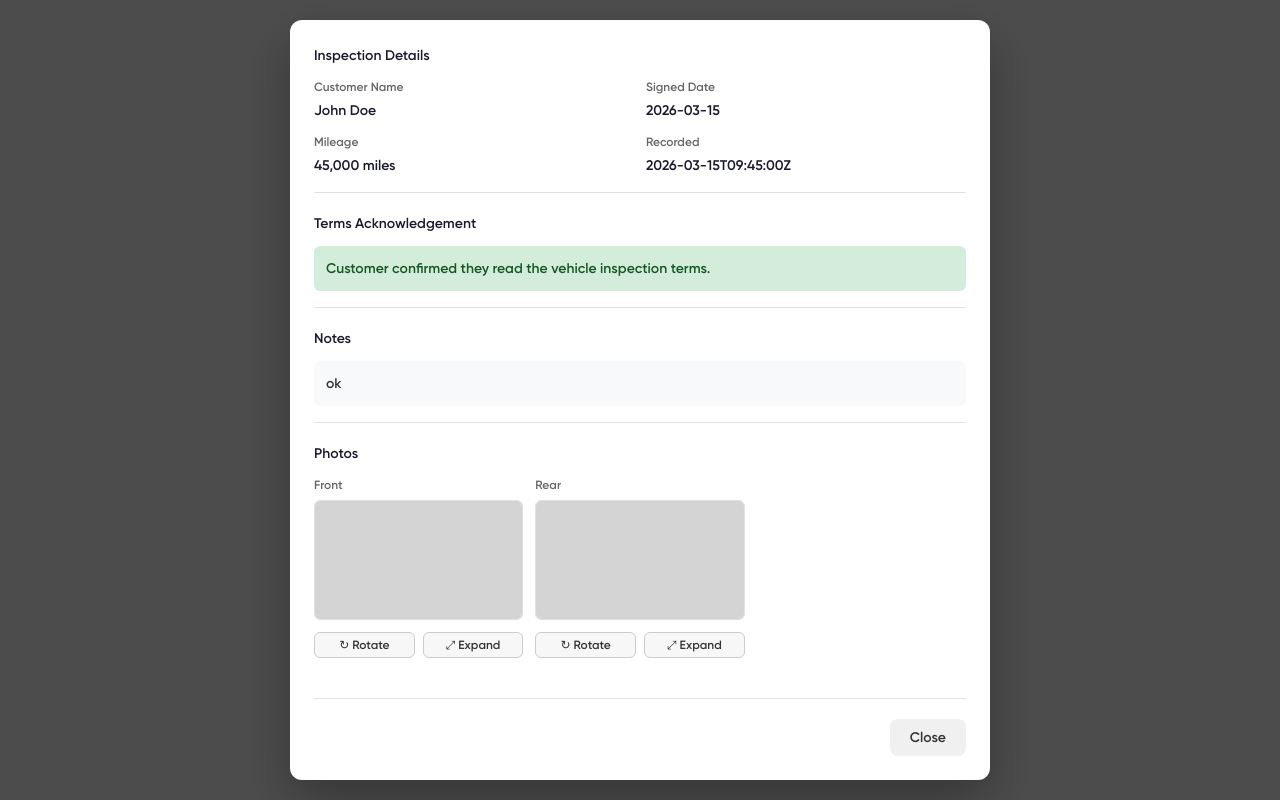
Test case: Admin inspection photo viewer — expand / rotate / zoom › Expand opens the fullscreen viewer with the photo + zoom/rotate controls
The image size is (1280, 800).
(page scrolled)
Click the button "⤢ Expand" below "Front" at {"x": 473, "y": 645}, box [423,632,523,658]
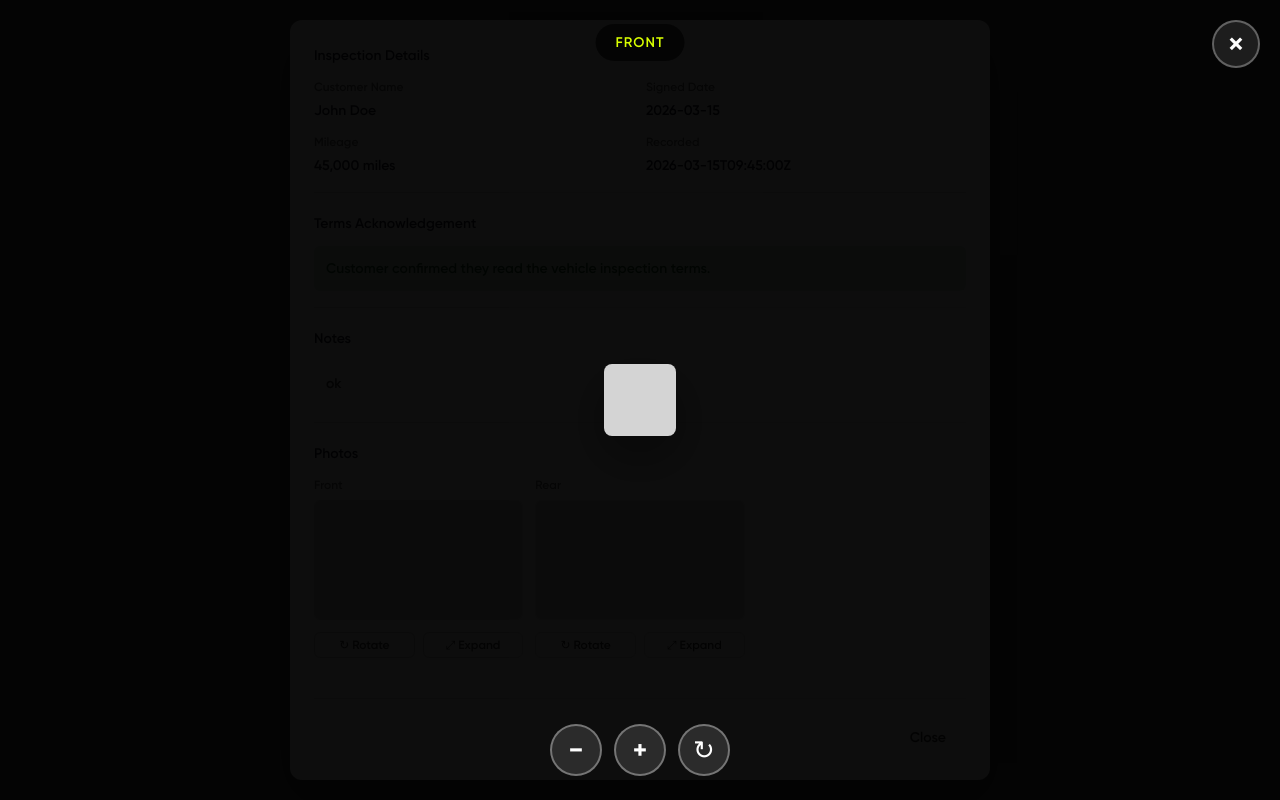
Now the element with class "image-viewer-overlay" is shown
Now the element with class "image-viewer-controls" is shown, box [550,724,730,776]
Now the number of buttons with class "image-viewer-btn" is 3, box [550,724,602,776]; [614,724,666,776]; [678,724,730,776]
